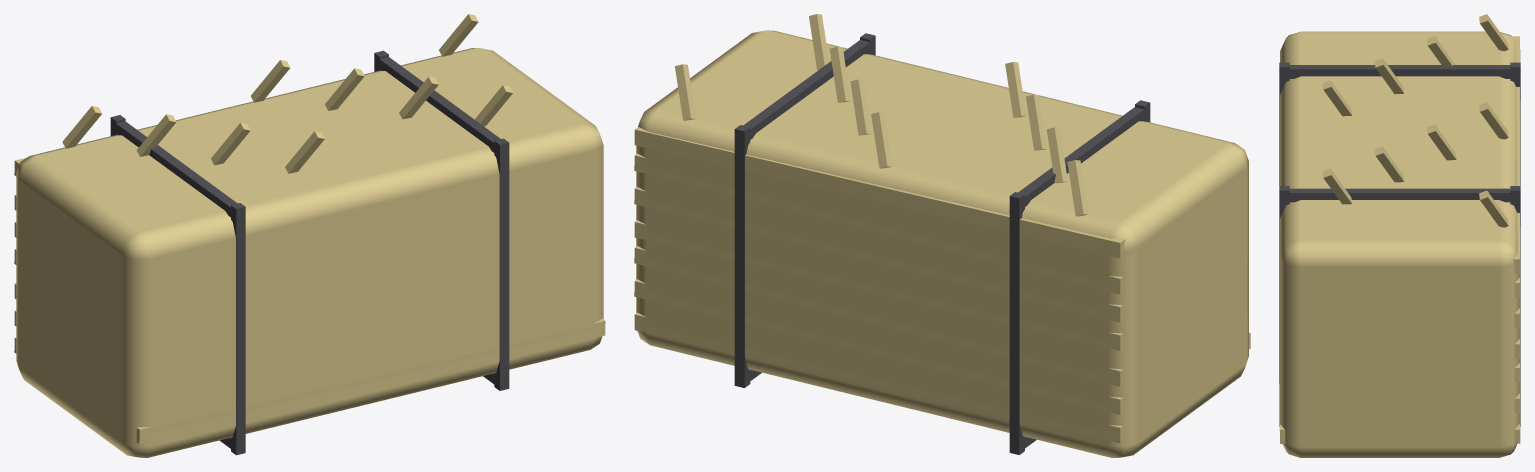
The model's file is halloween-slasher-street-hay-bale-66055fa6__27290.glb.
The picture shows the model from 3 angles, left to right: view 1: azimuth 30°, elevation 25°; view 2: azimuth 150°, elevation 25°; view 3: azimuth 270°, elevation 25°; orthographic projection. The views are drawn at different scales.
Parts seen in each view (by area): view 1: hay-bale; view 2: hay-bale; view 3: hay-bale.
Boxes of the visible parts, x1,y1,x2,y2 form: hay-bale: [14, 14, 605, 457]; hay-bale: [634, 14, 1250, 457]; hay-bale: [1279, 14, 1520, 457].
Size of the model in its own units: 1.02 by 0.5669 by 0.4624.
